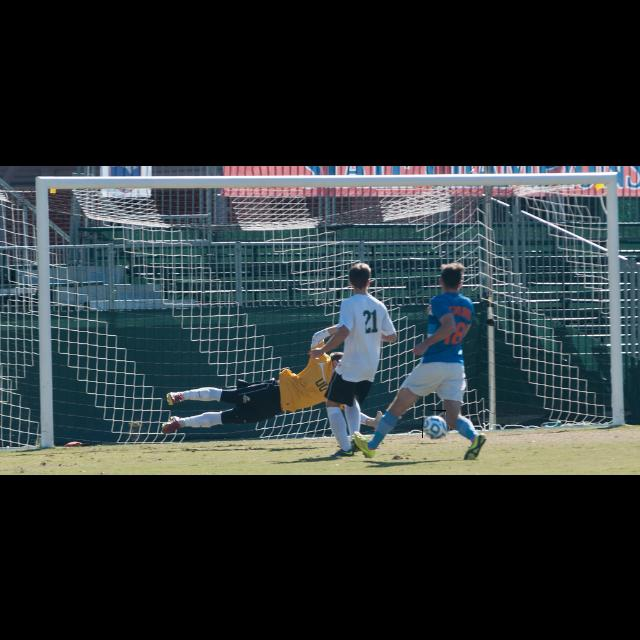Football: (422, 410, 446, 438)
